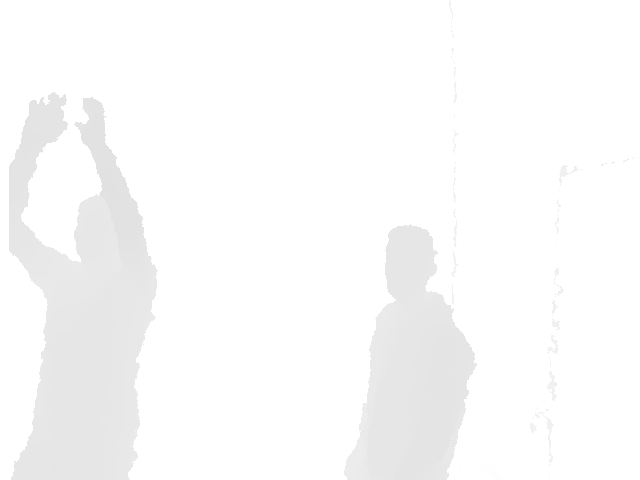hand: (26, 92, 67, 145), (73, 97, 106, 143)
head: (383, 224, 439, 299), (74, 192, 126, 271)
person: (8, 91, 160, 479), (343, 224, 477, 480)
